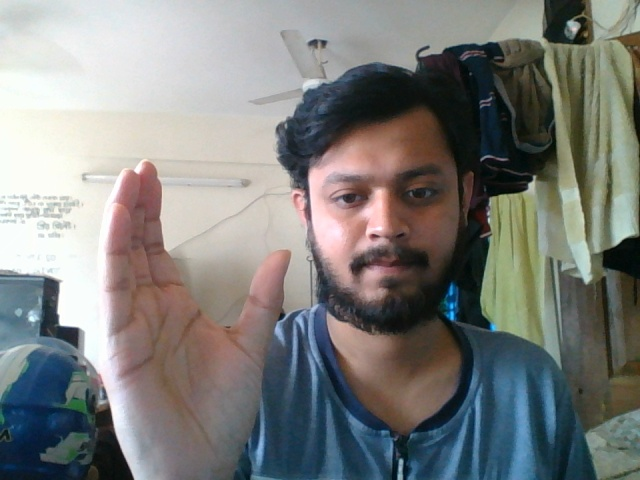o: (92, 154, 291, 480)
